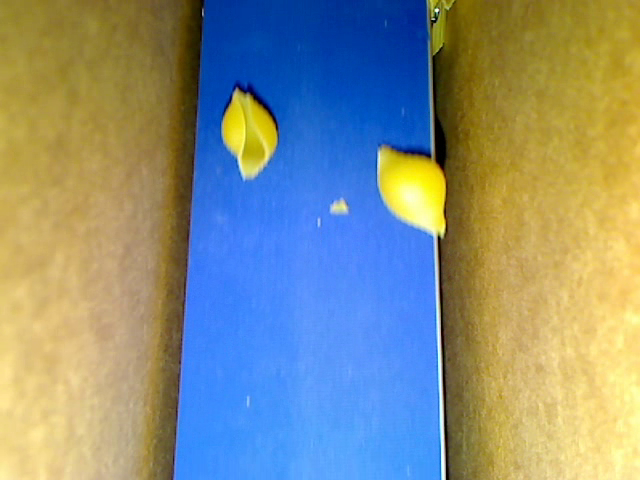penne: (431, 1, 449, 61), (440, 1, 458, 13)
shell: (374, 143, 449, 239), (217, 84, 280, 182)
